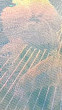hologram: (1, 1, 62, 109)
